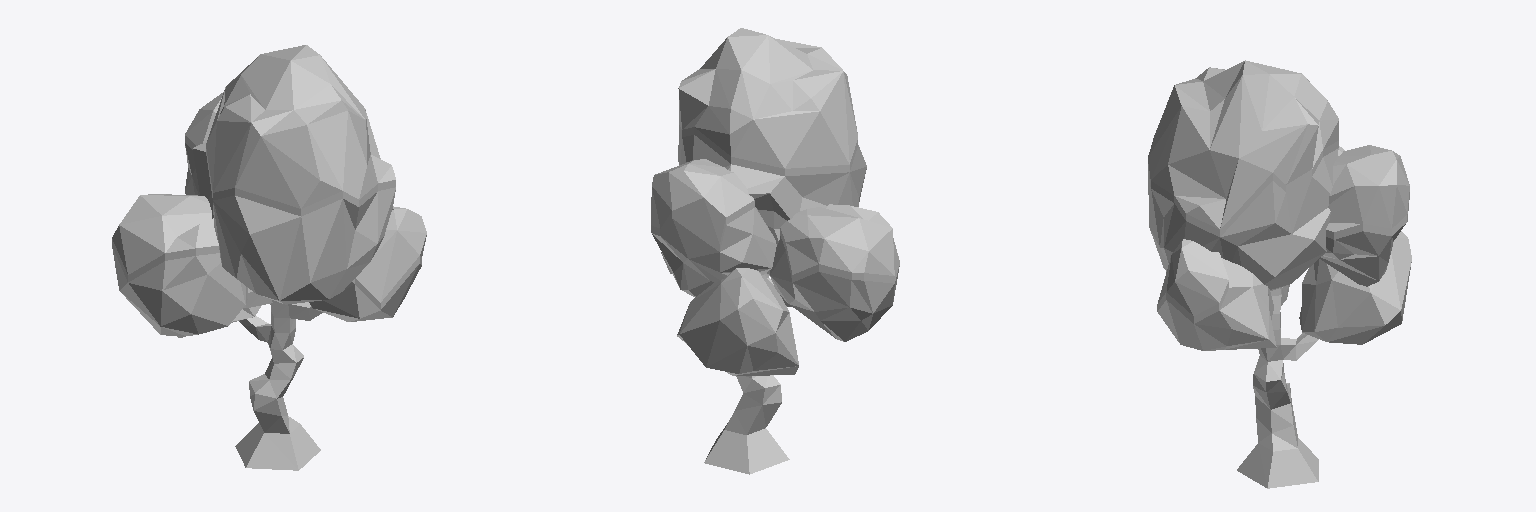
Rendered from tree04snow.obj.
The picture shows the model from 3 angles: view 1: azimuth 30°, elevation 25°; view 2: azimuth 150°, elevation 25°; view 3: azimuth 270°, elevation 25°; orthographic projection.
Parts seen in each view (by area): view 1: SM_Env_Tree_Twisted_01_Snow_Mesh.007; view 2: SM_Env_Tree_Twisted_01_Snow_Mesh.007; view 3: SM_Env_Tree_Twisted_01_Snow_Mesh.007.
Part boxes in pixels (left/top/right/bottom): SM_Env_Tree_Twisted_01_Snow_Mesh.007: left=112, top=45, right=426, bottom=470; SM_Env_Tree_Twisted_01_Snow_Mesh.007: left=651, top=28, right=899, bottom=474; SM_Env_Tree_Twisted_01_Snow_Mesh.007: left=1148, top=60, right=1411, bottom=488.
Bounding box in the file's own units: 3.34 × 5.11 × 3.